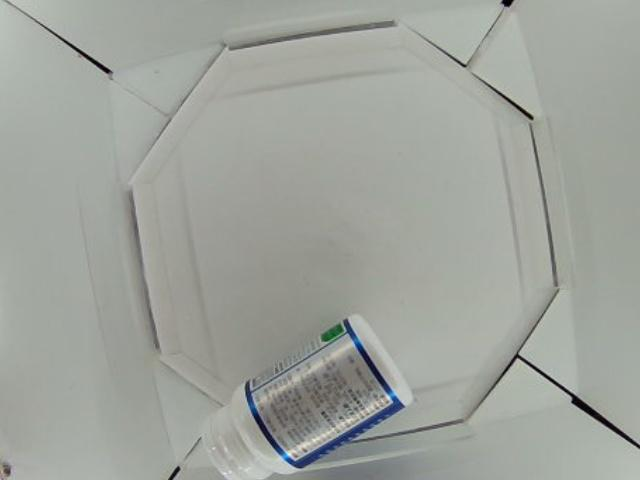Bottle: (200, 315, 416, 480)
